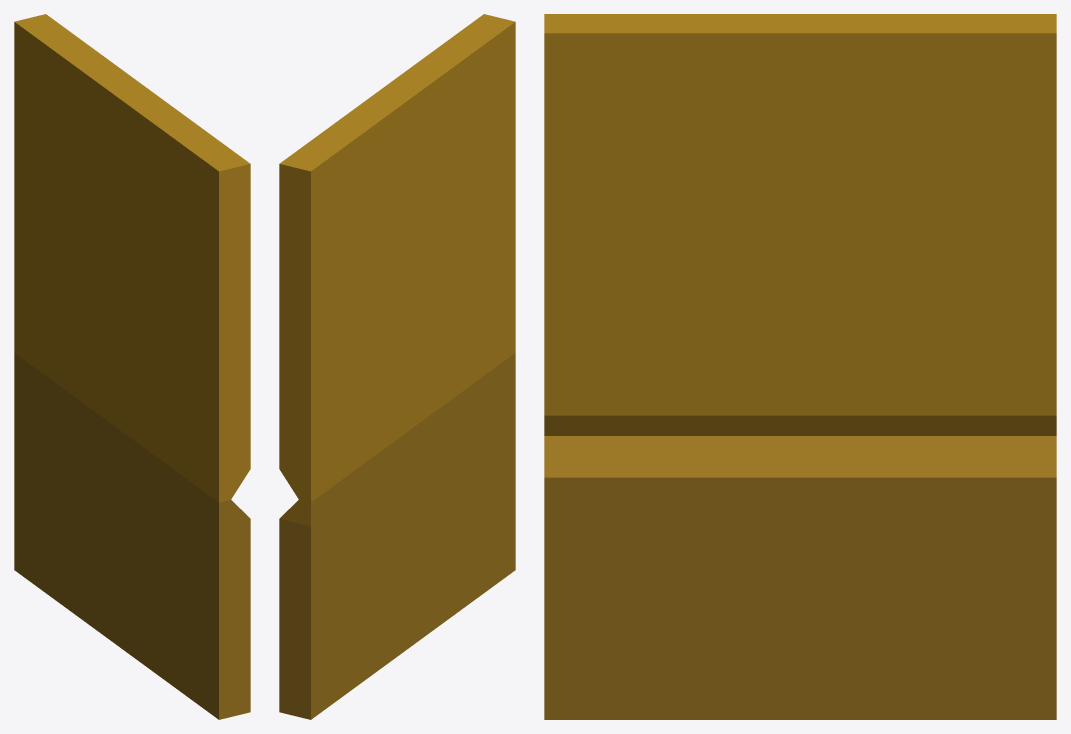
File: PAREDERATO.fbx
3 views of the same model, side by side, from view 1: azimuth 30°, elevation 25°; view 2: azimuth 150°, elevation 25°; view 3: azimuth 270°, elevation 25° (orthographic). The views are drawn at different scales.
Visible parts, largest first — view 1: Cube.001; view 2: Cube.001; view 3: Cube.001.
Part boxes in pixels (x1=…): Cube.001: x1=14, y1=14, x2=250, y2=719; Cube.001: x1=279, y1=14, x2=515, y2=719; Cube.001: x1=544, y1=14, x2=1056, y2=719.
Size of the model in its own units: 35.73 by 593 by 401.
